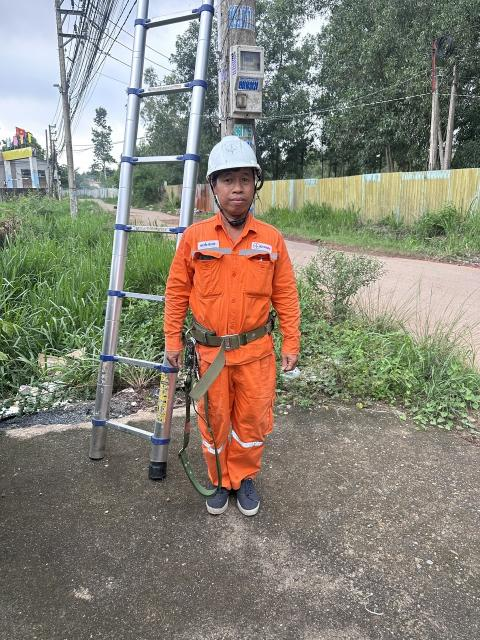harness: (191, 309, 280, 351)
helmet: (195, 132, 272, 190)
shoes: (187, 473, 231, 521), (239, 481, 267, 521)
